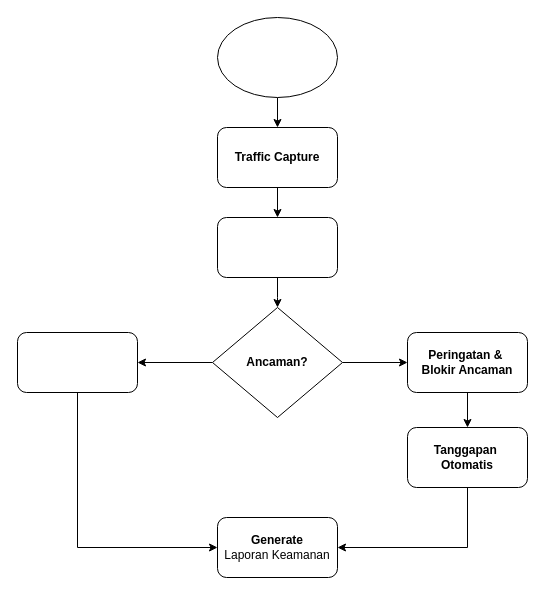
Some shapes in this 545 by 595 pixel diagram are drawn without their labels. Here are the shapes that lost their labels. From the top down, the box of each, then its label:
(216, 16, 338, 98): Start
(216, 216, 338, 278): Analisis AI (Machine Learning)
(16, 332, 138, 392): Log Aktifitas Normal
